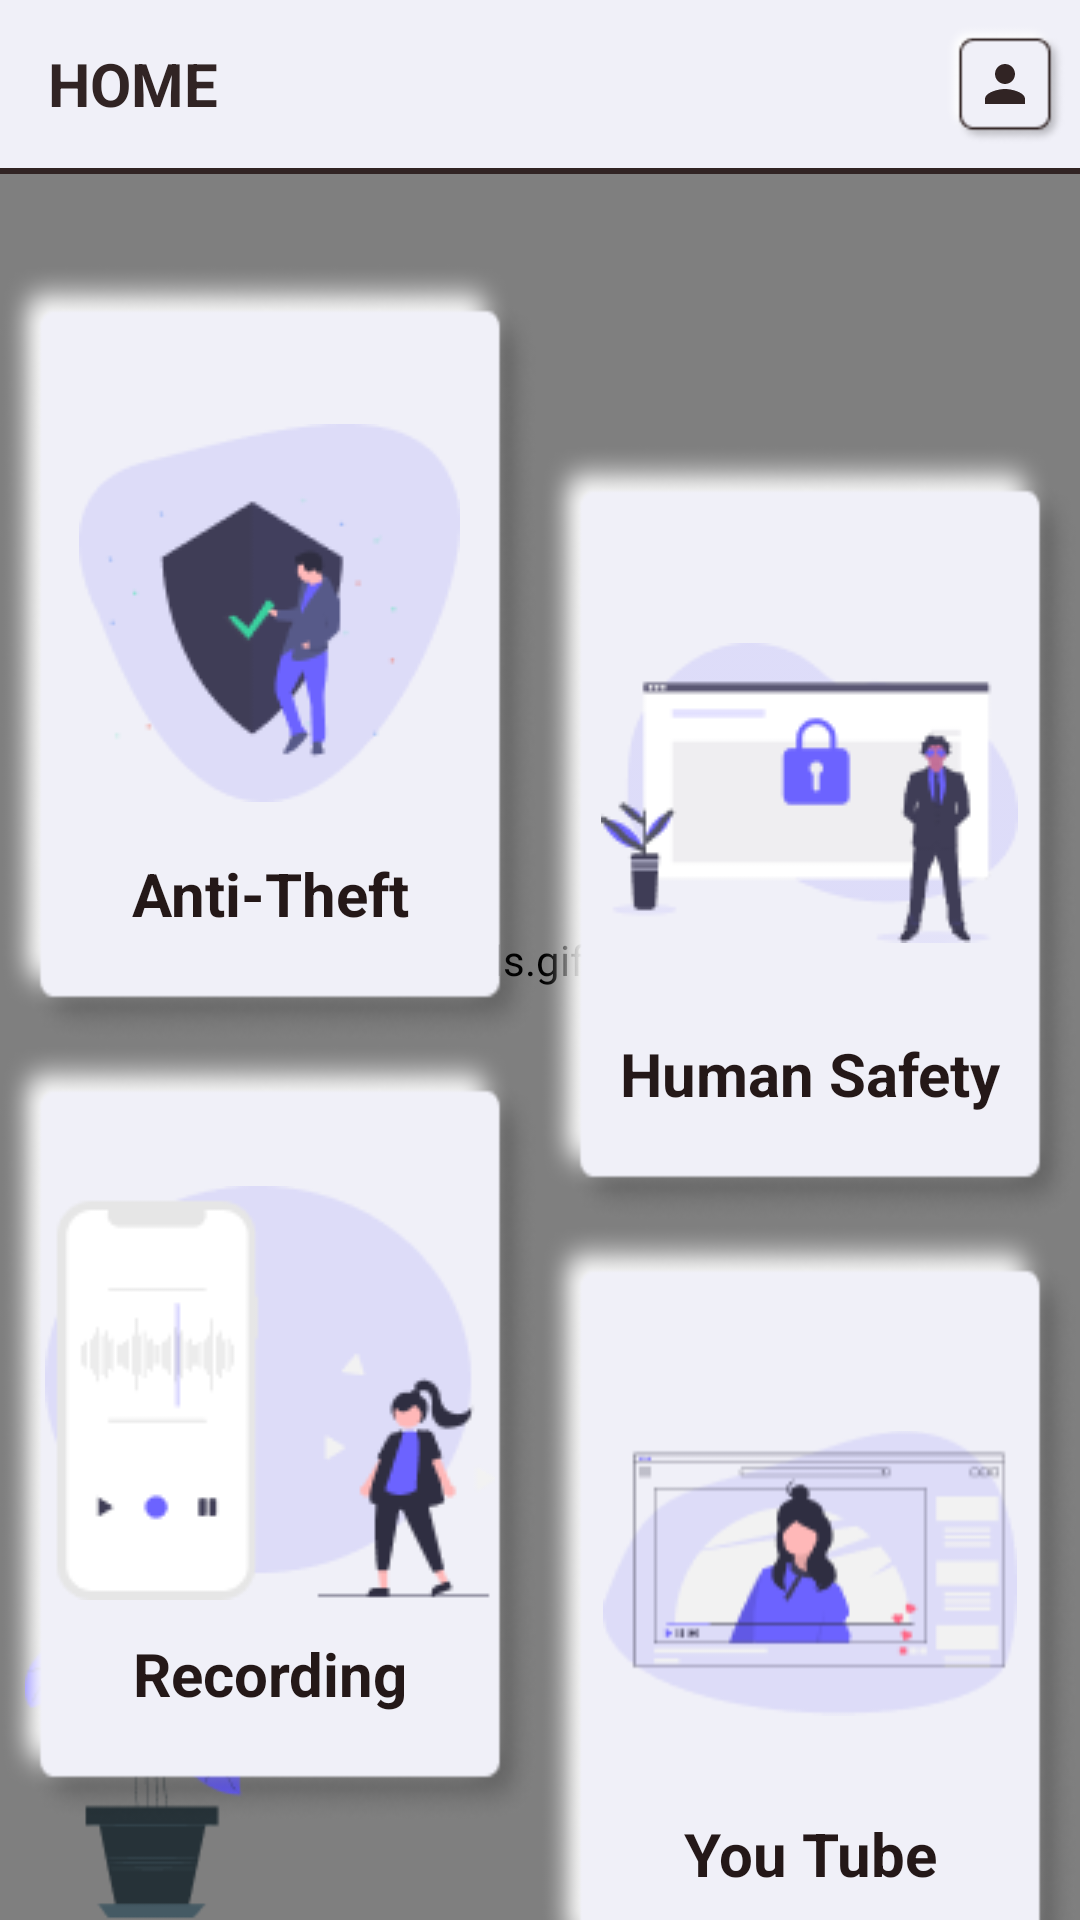

Point at icon controls on the screen. Image size 1080px×1920px, points as (x=x, y=y).
person: (x=1008, y=87)
